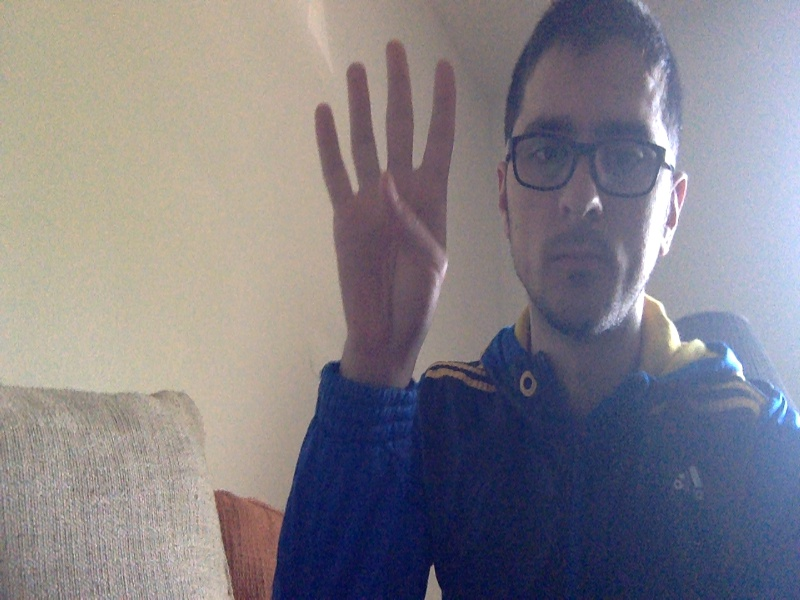4-hand: (313, 39, 460, 340)
